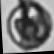correct: (5, 0, 54, 52)
